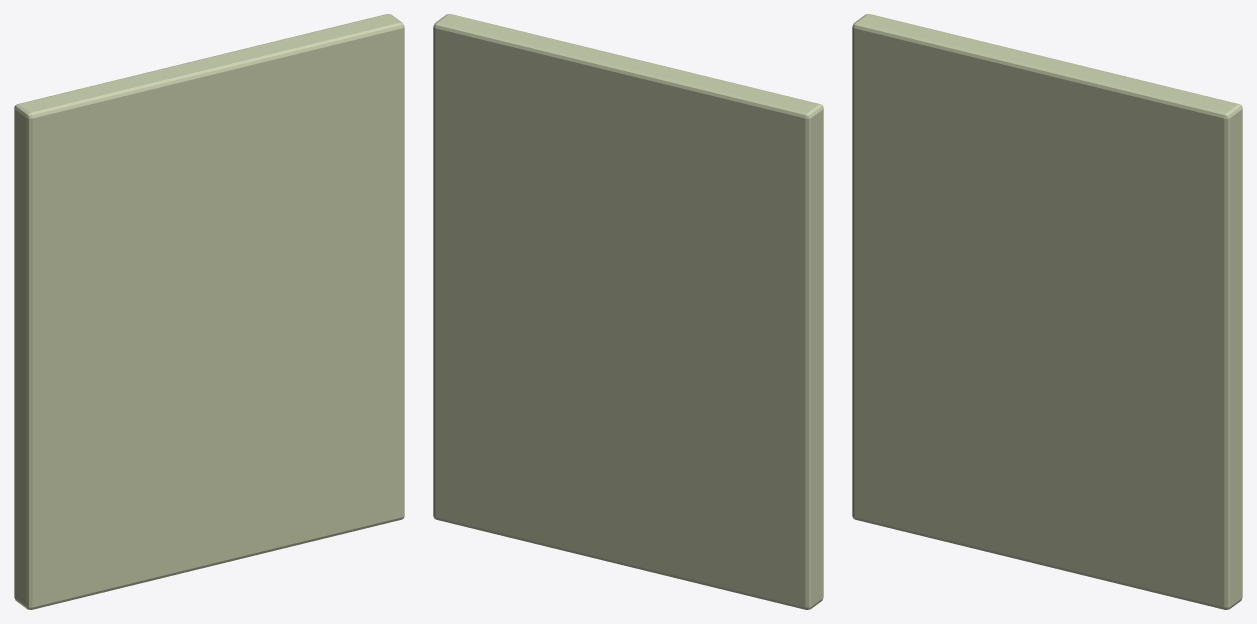
The model's file is wall_plain_2m__finish.glb.
3 views of the same model, side by side, from view 1: azimuth 30°, elevation 25°; view 2: azimuth 150°, elevation 25°; view 3: azimuth 330°, elevation 25° (orthographic).
Visible parts, largest first — view 1: wall_plain_2m__finish__mesh_00; view 2: wall_plain_2m__finish__mesh_00; view 3: wall_plain_2m__finish__mesh_00.
Boxes of the visible parts, bbox=[...] form: wall_plain_2m__finish__mesh_00: bbox=[14, 14, 404, 609]; wall_plain_2m__finish__mesh_00: bbox=[433, 14, 823, 609]; wall_plain_2m__finish__mesh_00: bbox=[852, 14, 1242, 609].
Bounding box in the file's own units: 1.75 × 2.2 × 0.13.
